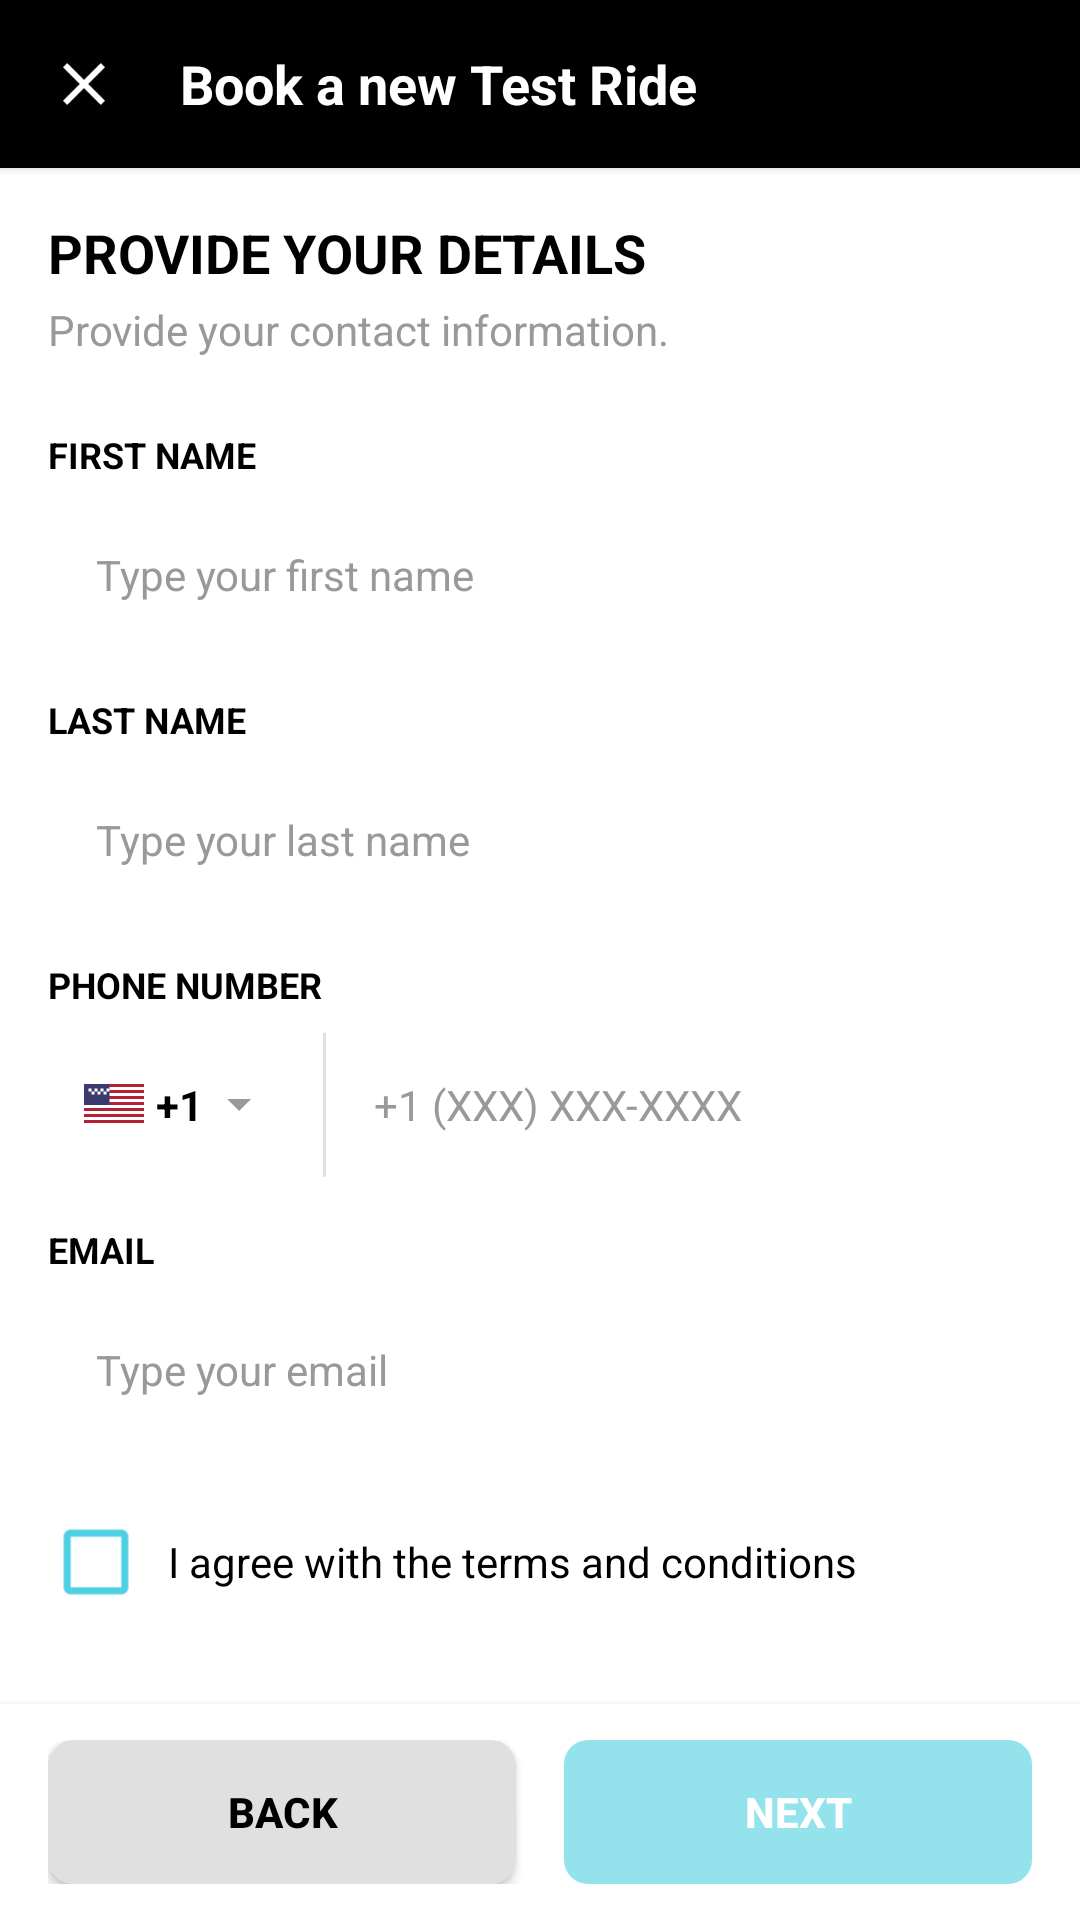

Screen size 1080w x 1920h. Icon name, then its box in pixels as (x1, y1, x2, y2):
chevron down: (227, 1099, 251, 1111)
Close: (63, 63, 105, 105)
flag usa: (84, 1084, 144, 1123)
